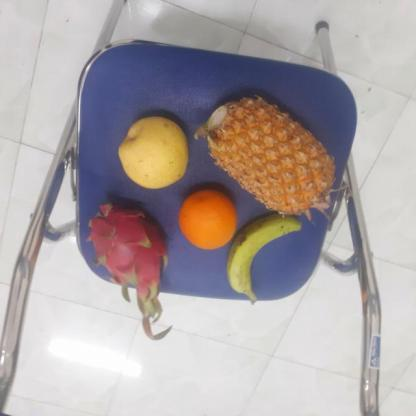orange: (178, 188, 242, 251)
pear: (118, 115, 193, 188)
pineapple: (202, 99, 338, 216)
pitaya: (219, 210, 330, 303), (88, 197, 174, 294)
